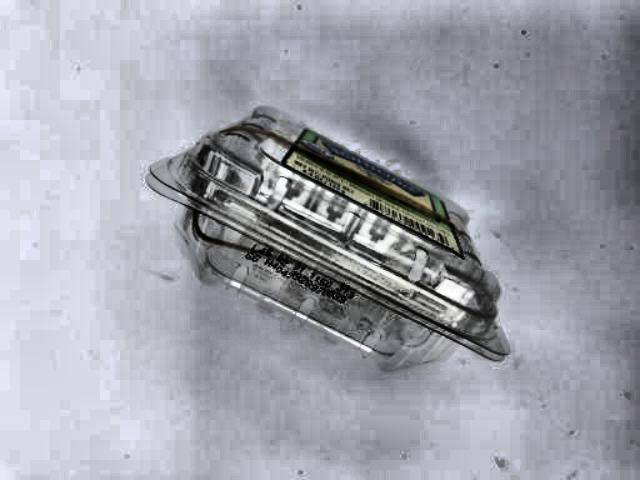Plastic: (132, 95, 522, 396)
